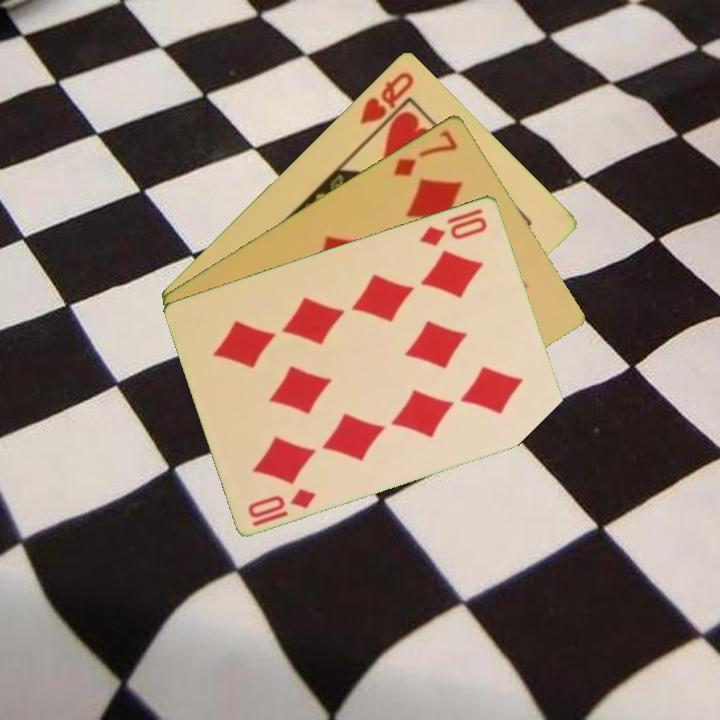10d: (244, 484, 319, 521), (416, 212, 490, 249)
7d: (389, 126, 461, 180)
Qh: (356, 68, 417, 127)
